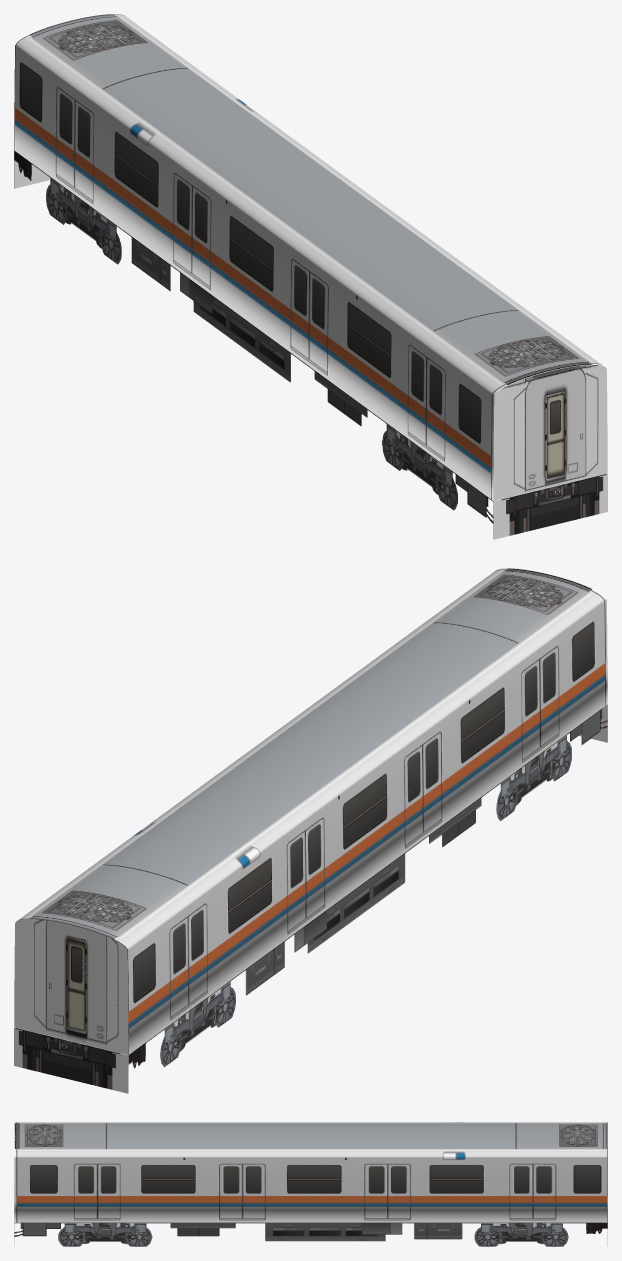
The model's file is car2.glb.
3 views of the same model, one above another, from view 1: azimuth 30°, elevation 25°; view 2: azimuth 150°, elevation 25°; view 3: azimuth 270°, elevation 25° (orthographic). The views are drawn at different scales.
Parts seen in each view (by area): view 1: kintetsu-7000-car2; view 2: kintetsu-7000-car2; view 3: kintetsu-7000-car2.
Boxes of the visible parts, x1,y1,x2,y2 form: kintetsu-7000-car2: (14, 14, 607, 539); kintetsu-7000-car2: (14, 568, 607, 1093); kintetsu-7000-car2: (14, 1122, 607, 1246).
Size of the model in its own units: 2.9 by 3.74 by 21.09.
Materials: 8 (7 with a texture image).
